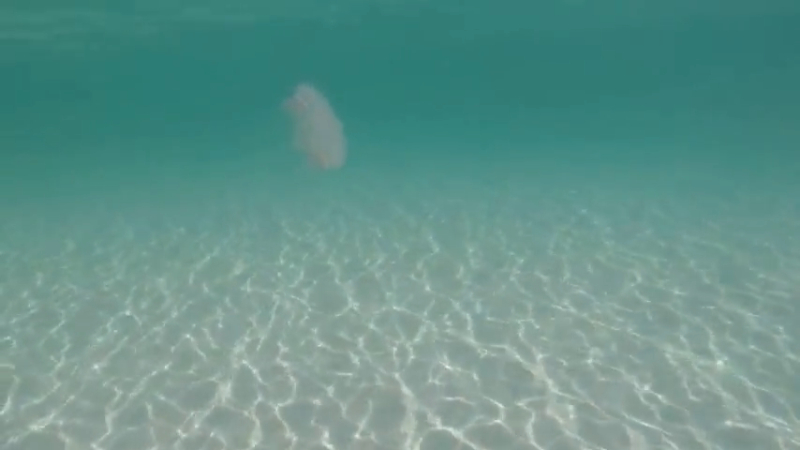white jellyfish: (271, 82, 355, 177)
